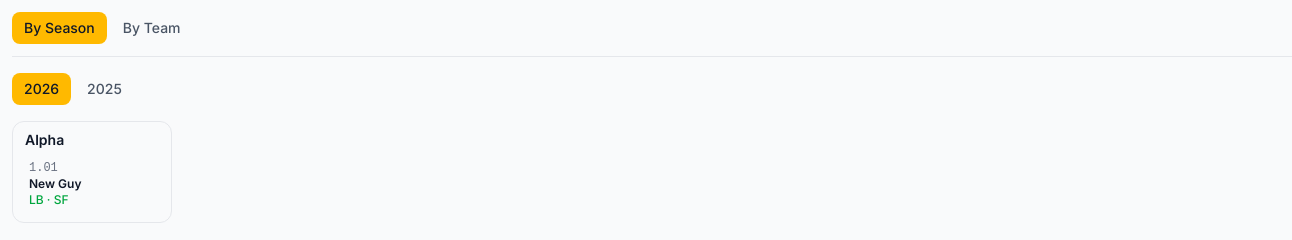
Test: DraftBoardView › shows the newest season's board initially and swaps on tab click
Expected: the text "New Guy" is shown, [29,176,82,191]
Expected: the text "Old Guy" is not shown
Step 1. Click the button "2025" → [104, 89], box [75,73,134,105]
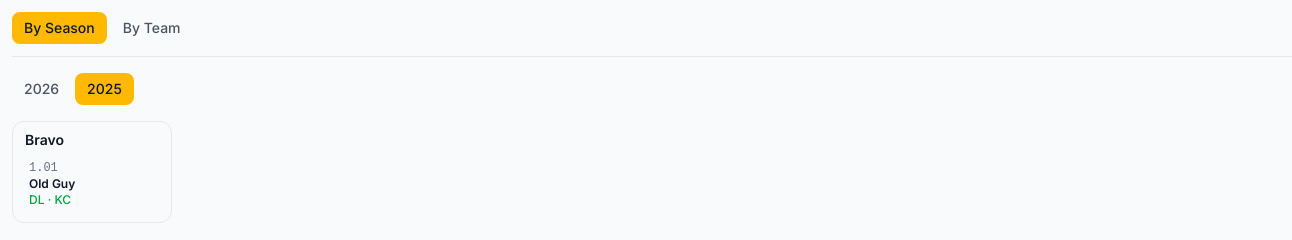
Now the text "Old Guy" is shown, box [29,176,75,191]
Now the button "New Guy" is gone
